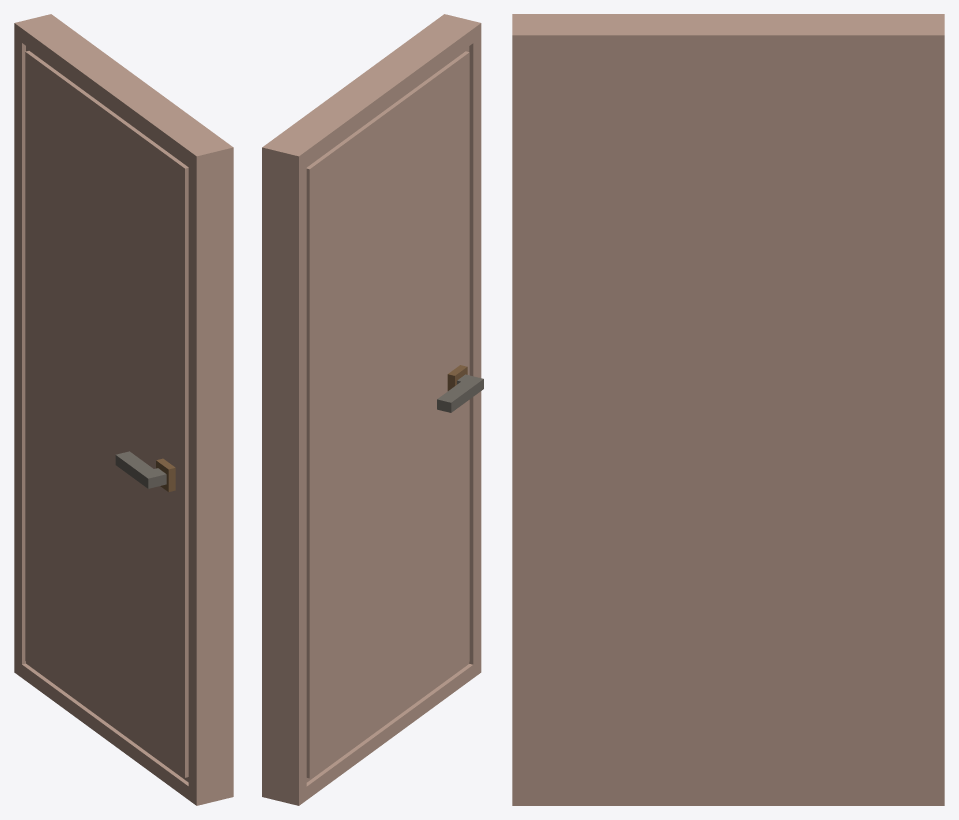
File: Door_01.fbx
The picture shows the model from 3 angles, left to right: view 1: azimuth 30°, elevation 25°; view 2: azimuth 150°, elevation 25°; view 3: azimuth 270°, elevation 25°; orthographic projection. The views are drawn at different scales.
Parts seen in each view (by area): view 1: Door_01; view 2: Door_01; view 3: Door_01.
Boxes of the visible parts, bbox=[...] form: Door_01: bbox=[14, 14, 233, 805]; Door_01: bbox=[262, 14, 483, 805]; Door_01: bbox=[512, 14, 944, 805].
Bounding box in the file's own units: 0.201 × 2 × 1.02.
